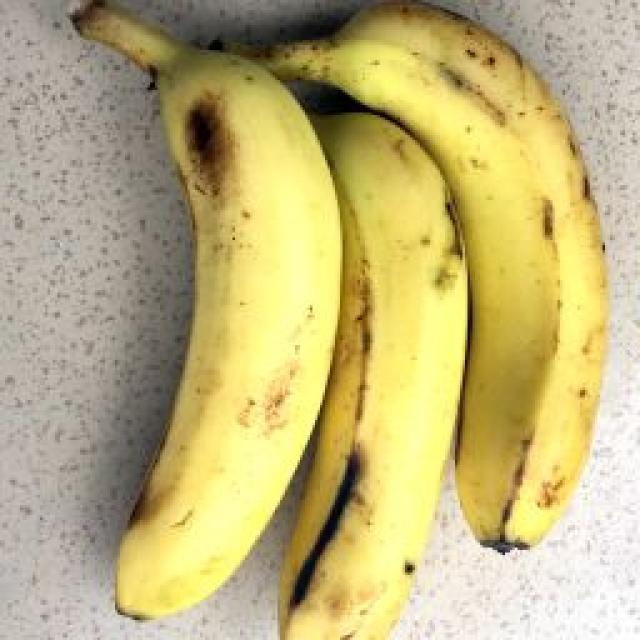banana: (115, 108, 640, 607)
